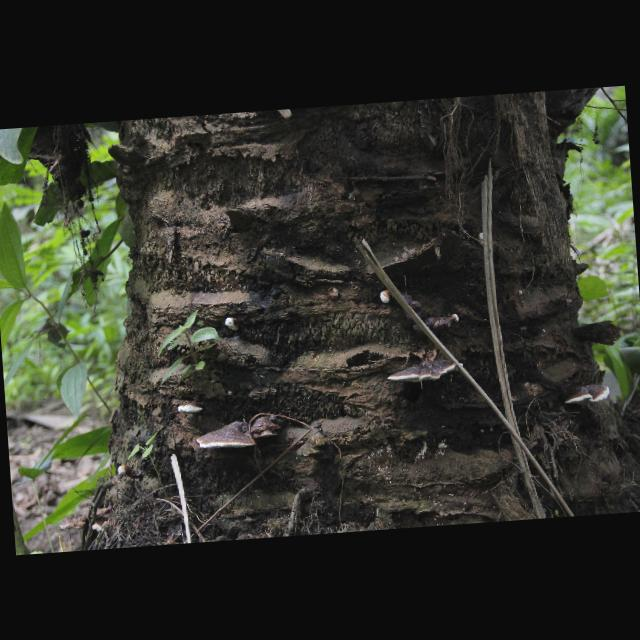ganoderma: (392, 286, 453, 338), (388, 358, 465, 386), (197, 421, 258, 452), (565, 384, 612, 408), (251, 415, 284, 439), (59, 512, 90, 531), (178, 402, 204, 416), (92, 521, 106, 533)
primordium: (226, 317, 240, 331), (118, 465, 132, 477), (381, 291, 392, 305), (477, 233, 485, 247), (452, 314, 461, 324)
